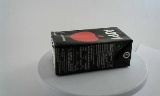appy: (46, 26, 124, 77)
